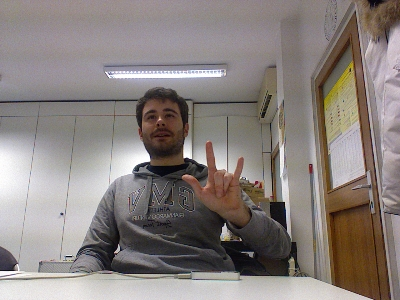我爱你: (180, 138, 246, 212)
